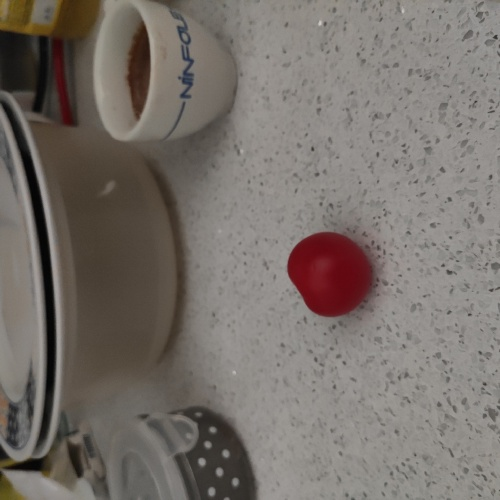pomodoro: (282, 226, 379, 324)
